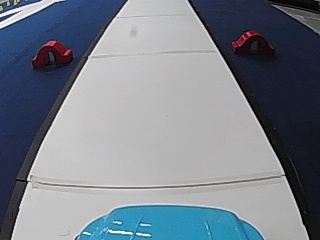bridge: (30, 36, 73, 69), (230, 26, 276, 56)
